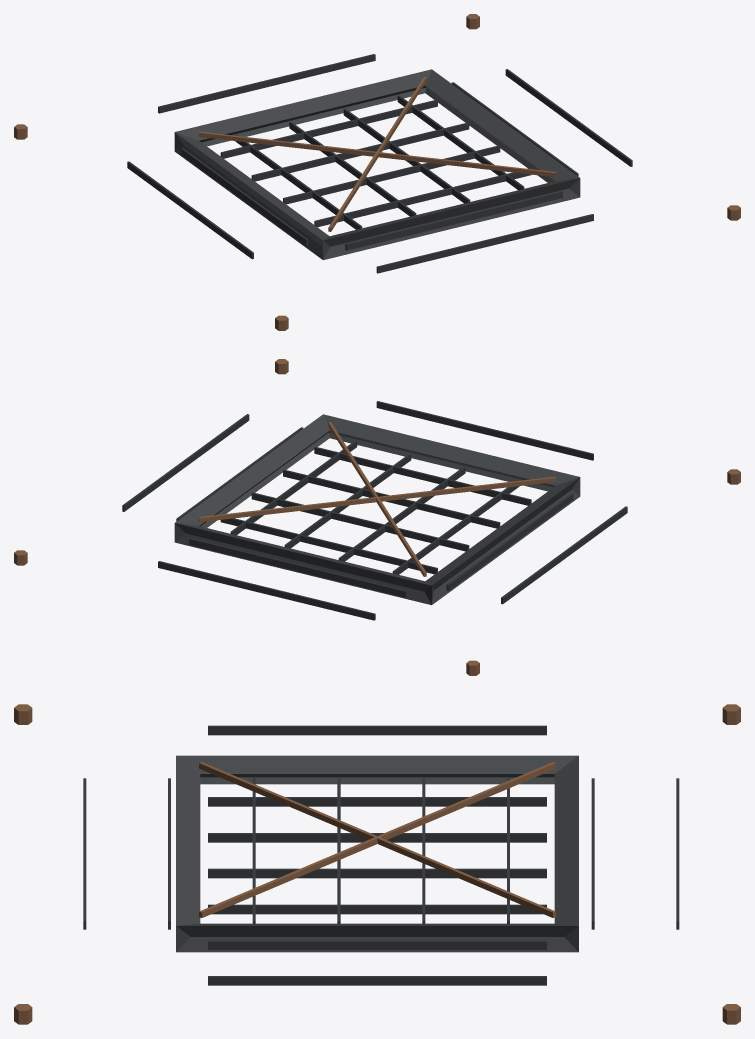
File: arch_floor_grate.glb
3 views of the same model, one above another, from view 1: azimuth 30°, elevation 25°; view 2: azimuth 150°, elevation 25°; view 3: azimuth 270°, elevation 25° (orthographic). The views are drawn at different scales.
Parts seen in each view (by area): view 1: arch_floor_grate; view 2: arch_floor_grate; view 3: arch_floor_grate.
Boxes of the visible parts, left/top/right/bottom form: arch_floor_grate: left=14, top=14, right=740, bottom=330; arch_floor_grate: left=14, top=359, right=740, bottom=675; arch_floor_grate: left=14, top=704, right=740, bottom=1024.
Size of the model in its own units: 0.9408 by 0.049 by 0.944.
